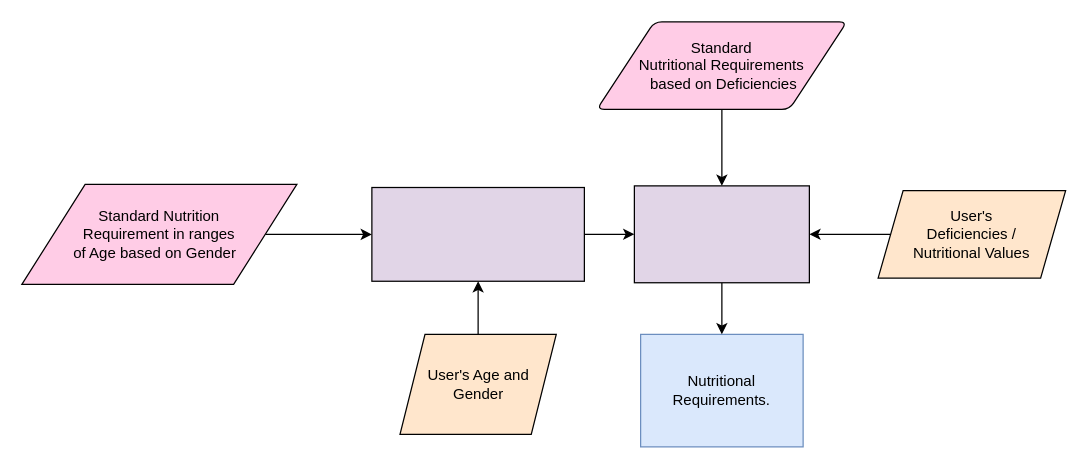
Some shapes in this 1088 by 469 pixel diagram are drawn without their labels. Each missing label, with the box of its shape:
Calculate Spatial Difference: (633, 185, 809, 283)
Standard Nutrition Requirement based on Age and Gender for User: (371, 186, 584, 281)
